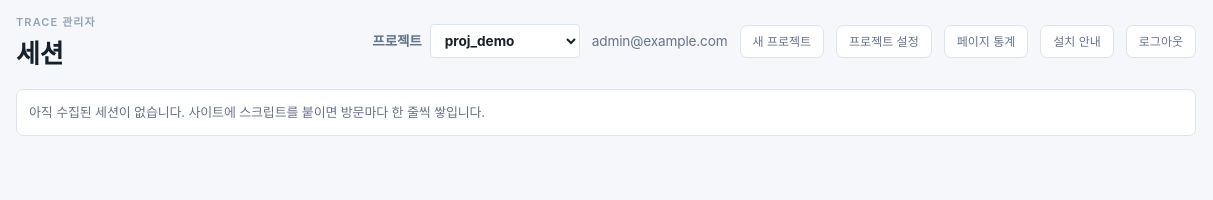
Test: App 페이지 통계 › 대시보드에서 페이지 통계로 이동해 목록을 보여준다
Click the button "페이지 통계" at coordinates (986, 41), box [944,25,1028,58]
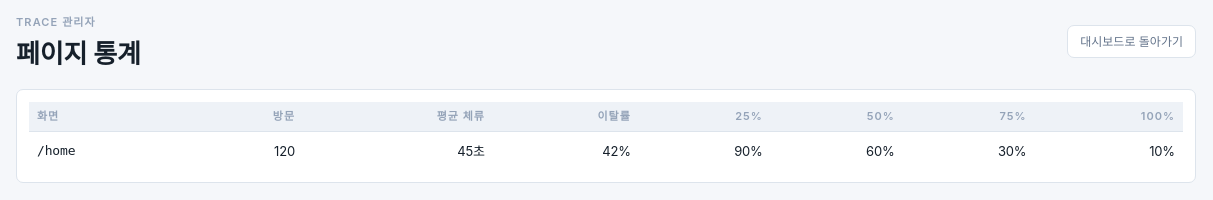
Check: the heading "페이지 통계" is shown, box [16,38,141,69]
Check: the text "/home" is shown, box [37,143,75,158]
